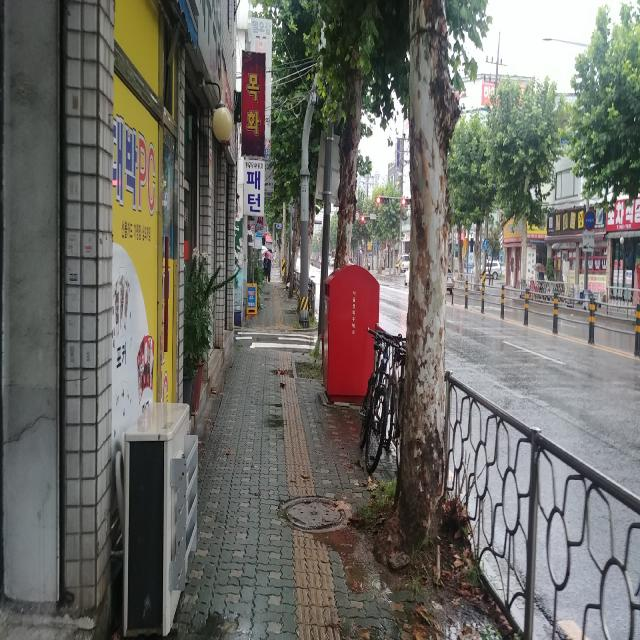횡단보도: (236, 332, 317, 350)
